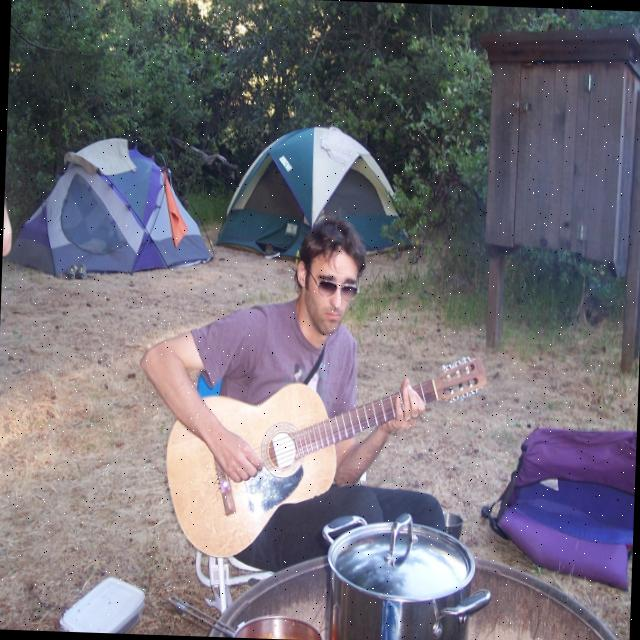guitar: (162, 345, 490, 568)
